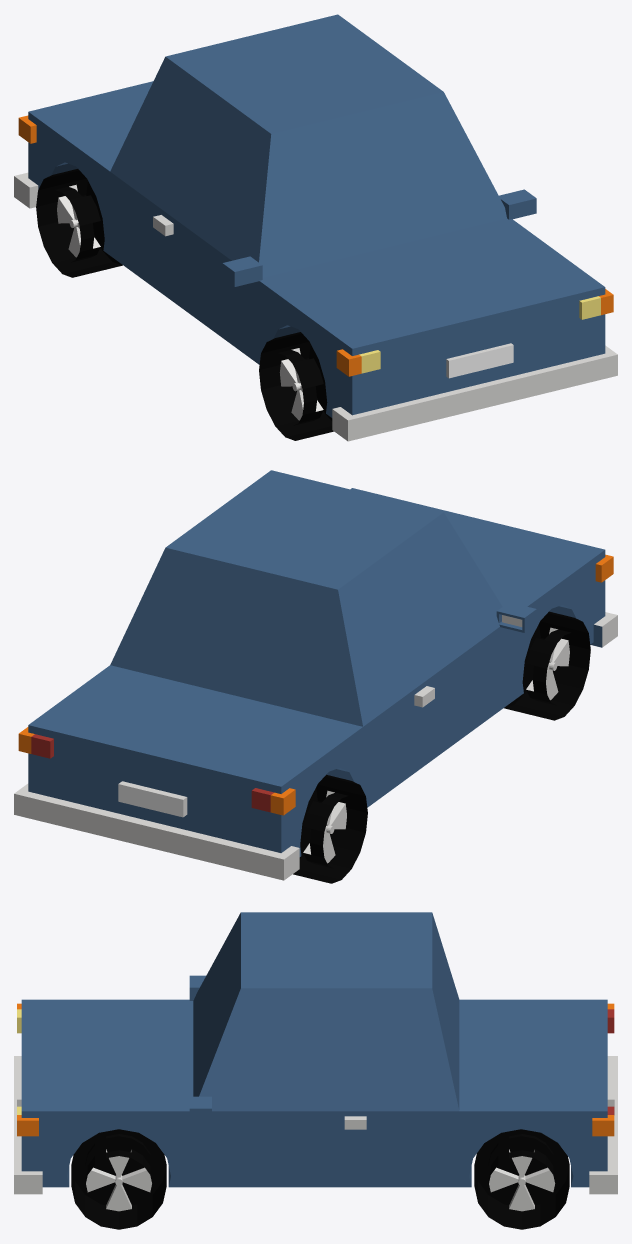
Rendered from vehicle.glb.
3 views of the same model, one above another, from view 1: azimuth 30°, elevation 25°; view 2: azimuth 150°, elevation 25°; view 3: azimuth 270°, elevation 25° (orthographic). The views are drawn at different scales.
Parts seen in each view (by area): view 1: Cube.038; view 2: Cube.038; view 3: Cube.038.
Part boxes in pixels (<box>): Cube.038: <box>14,14,617,441</box>; Cube.038: <box>14,470,617,883</box>; Cube.038: <box>14,912,617,1229</box>.
Size of the model in its own units: 0.767 by 0.5847 by 1.47.
